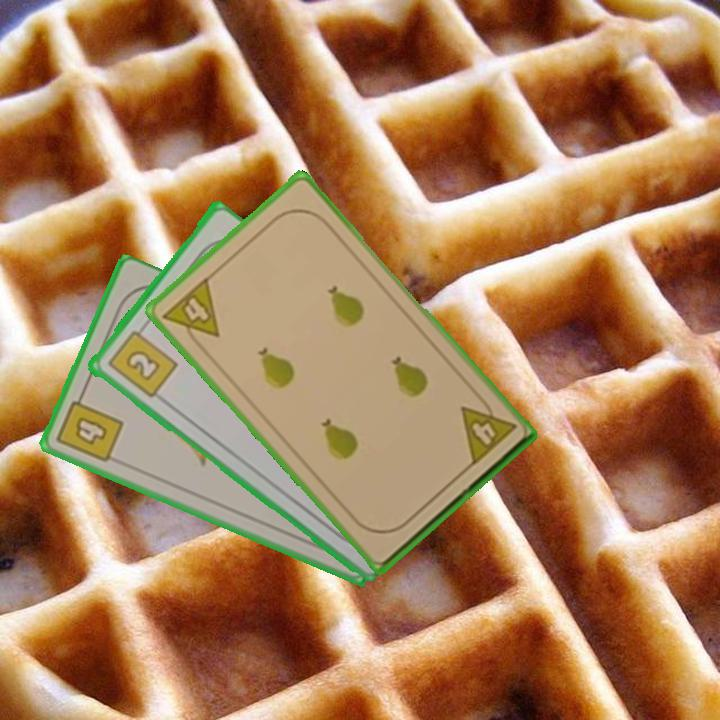2b: (103, 320, 180, 401)
4b: (53, 387, 126, 466)
4p: (159, 273, 223, 354), (456, 391, 519, 469)
